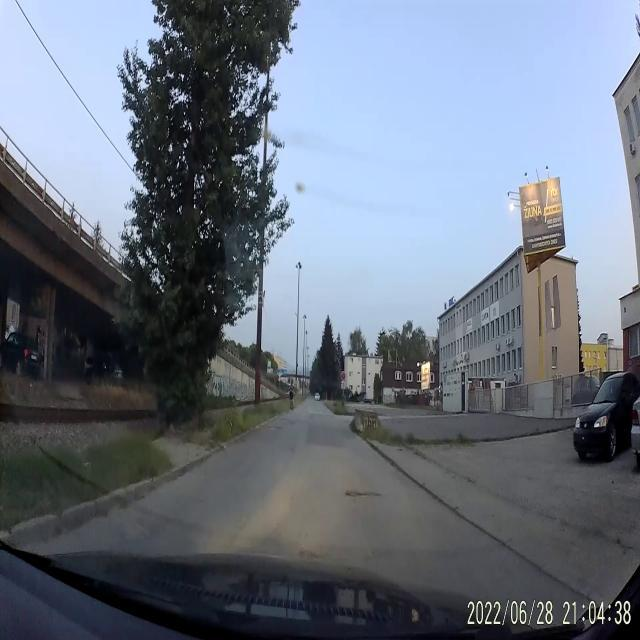Pothole: (340, 486, 382, 502), (268, 424, 282, 432)
